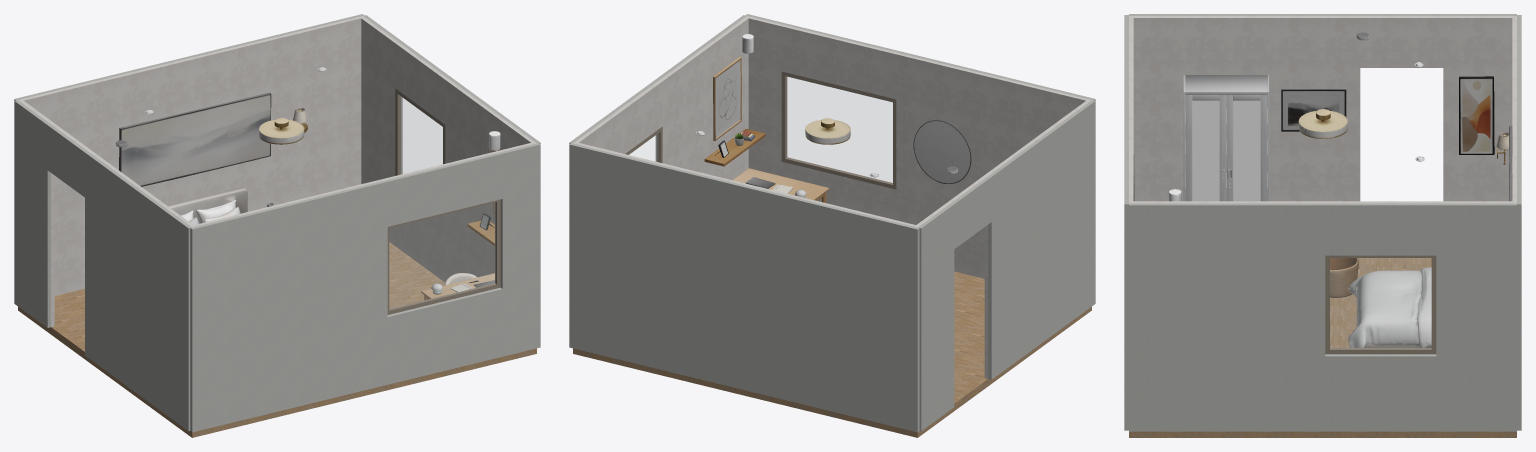
File: scene_web.glb
The picture shows the model from 3 angles, left to right: view 1: azimuth 30°, elevation 25°; view 2: azimuth 150°, elevation 25°; view 3: azimuth 270°, elevation 25°; orthographic projection. The views are drawn at different scales.
Parts seen in each view (by area): view 1: geometry_0.003, geometry_0, geometry_0.007, geometry_0.004, geometry_0.014, glass, Mesh_0, glass.001, geometry_0.008, frame, geometry_0.006, geometry_0.022 (+5 smaller); view 2: geometry_0.001, geometry_0.007, geometry_0.002, geometry_0.004, glass, Mesh_0, geometry_0.019, frame, geometry_0.018, geometry_0.006, geometry_0.011, geometry_0.022 (+4 smaller); view 3: geometry_0.005, geometry_0.006, glass.001, geometry_0.008, Mesh_0, P_11823adfd27b5318.001, P_ac2c10a63efbaf87.001, geometry_0.021, frame.001, geometry_0.001, geometry_0.003, geometry_0.020 (+11 smaller).
Boxes of the visible parts, left/top/right/bottom form: geometry_0.003: left=190, top=143, right=540, bottom=432; geometry_0: left=22, top=17, right=361, bottom=295; geometry_0.007: left=14, top=100, right=191, bottom=431; geometry_0.004: left=359, top=16, right=536, bottom=282; geometry_0.014: left=119, top=92, right=271, bottom=186; glass: left=389, top=203, right=495, bottom=309; Mesh_0: left=18, top=242, right=536, bottom=437; glass.001: left=399, top=96, right=442, bottom=174; geometry_0.008: left=167, top=187, right=247, bottom=224; frame: left=387, top=199, right=500, bottom=314; geometry_0.006: left=18, top=99, right=195, bottom=326; geometry_0.022: left=259, top=118, right=304, bottom=144; geometry_0.001: left=569, top=143, right=919, bottom=432; geometry_0.007: left=918, top=100, right=1095, bottom=431; geometry_0.002: left=748, top=17, right=1087, bottom=278; geometry_0.004: left=573, top=16, right=750, bottom=179; glass: left=786, top=77, right=892, bottom=183; Mesh_0: left=573, top=271, right=1091, bottom=437; geometry_0.019: left=913, top=120, right=971, bottom=183; frame: left=781, top=71, right=896, bottom=189; geometry_0.018: left=713, top=57, right=741, bottom=140; geometry_0.006: left=914, top=99, right=1091, bottom=378; geometry_0.011: left=732, top=168, right=829, bottom=203; geometry_0.022: left=805, top=118, right=850, bottom=144; geometry_0.005: left=1129, top=203, right=1516, bottom=431; geometry_0.006: left=1129, top=16, right=1516, bottom=201; glass.001: left=1330, top=258, right=1431, bottom=348; geometry_0.008: left=1348, top=267, right=1431, bottom=347; Mesh_0: left=1129, top=258, right=1516, bottom=437; P_11823adfd27b5318.001: left=1233, top=100, right=1260, bottom=201; P_ac2c10a63efbaf87.001: left=1192, top=100, right=1219, bottom=201; geometry_0.021: left=1459, top=76, right=1494, bottom=154; frame.001: left=1325, top=255, right=1436, bottom=354; geometry_0.001: left=1517, top=15, right=1521, bottom=430; geometry_0.003: left=1124, top=15, right=1128, bottom=430; geometry_0.020: left=1281, top=89, right=1346, bottom=131.
Size of the model in its own units: 4.9 by 2.8 by 4.3.
49 materials, 41 textured.
